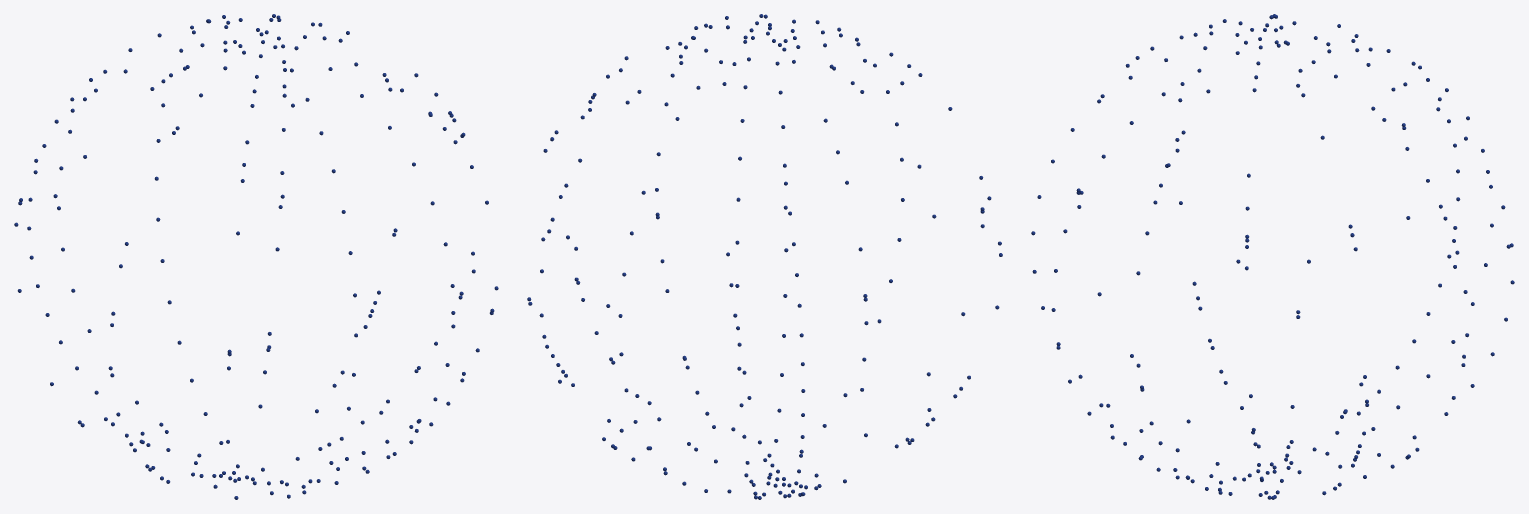
Rendered from OneWeb - 2m.glb.
The picture shows the model from 3 angles, left to right: view 1: azimuth 30°, elevation 25°; view 2: azimuth 150°, elevation 25°; view 3: azimuth 270°, elevation 25°; orthographic projection.
Parts seen in each view (by area): view 1: OneWeb - 2m; view 2: OneWeb - 2m; view 3: OneWeb - 2m.
Boxes of the visible parts, <box> form: OneWeb - 2m: <box>14,14,498,499</box>; OneWeb - 2m: <box>527,14,1002,499</box>; OneWeb - 2m: <box>1031,14,1514,499</box>.
Size of the model in its own units: 0.3647 by 0.3841 by 0.3818.
